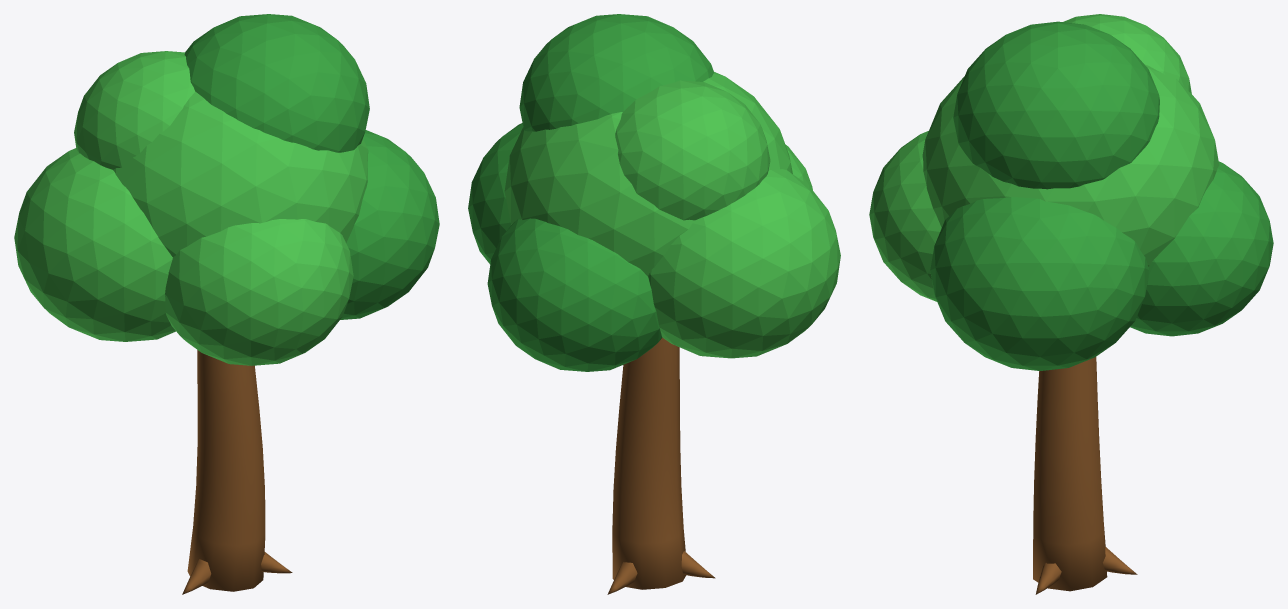
The model's file is Tree_A.glb.
3 renders of one model, left to right at view 1: azimuth 30°, elevation 25°; view 2: azimuth 150°, elevation 25°; view 3: azimuth 270°, elevation 25°, orthographic. The views are drawn at different scales.
Visible parts, largest first — view 1: Leaves, LeavesDark, Trunk; view 2: Leaves, LeavesDark, Trunk; view 3: LeavesDark, Leaves, Trunk.
Boxes of the visible parts, x1,y1,x2,y2 form: Leaves: [14, 51, 368, 365]; LeavesDark: [184, 14, 439, 319]; Trunk: [182, 350, 292, 594]; Leaves: [504, 72, 840, 358]; LeavesDark: [468, 14, 713, 371]; Trunk: [607, 337, 715, 594]; LeavesDark: [930, 21, 1273, 370]; Leaves: [869, 14, 1219, 301]; Trunk: [1033, 357, 1137, 594].
Bounding box in the file's own units: 14.62 × 20.65 × 13.49.
